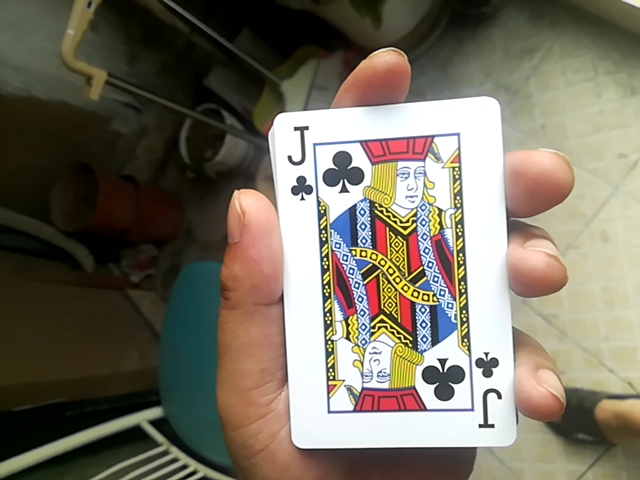mh j: (271, 90, 518, 457)
